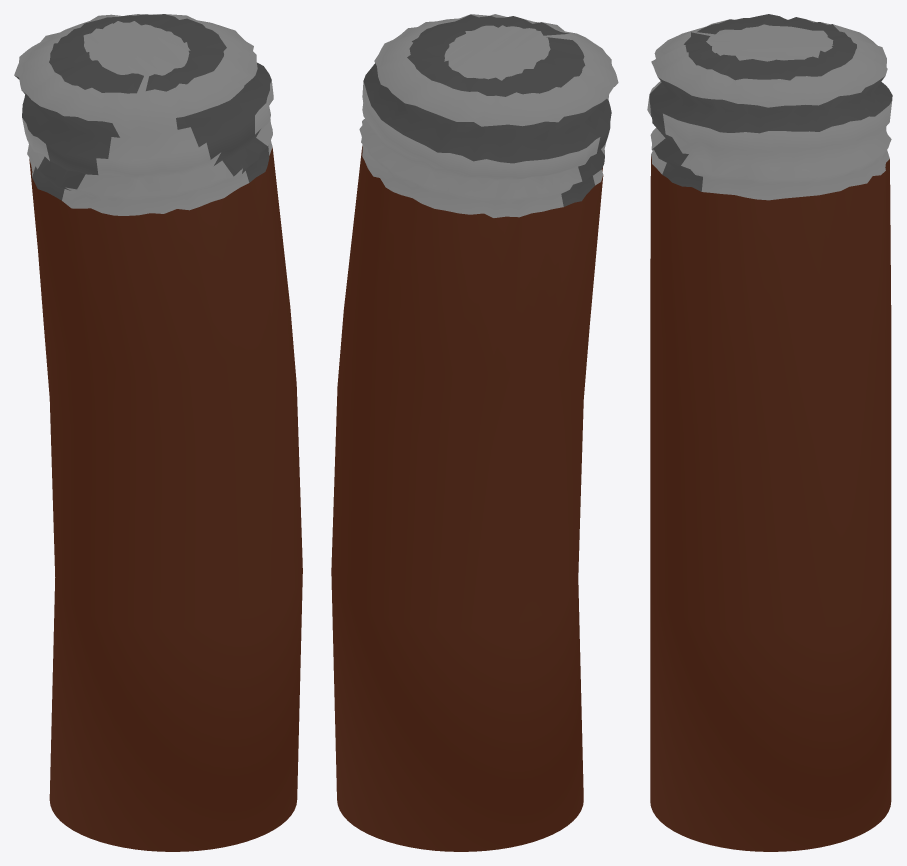
The model's file is Cigar.glb.
3 views of the same model, side by side, from view 1: azimuth 30°, elevation 25°; view 2: azimuth 150°, elevation 25°; view 3: azimuth 270°, elevation 25° (orthographic). The views are drawn at different scales.
Visible parts, largest first — view 1: Cigar; view 2: Cigar; view 3: Cigar.
Part boxes in pixels (x1,y1,x2,y2): Cigar: (14, 14, 302, 851); Cigar: (331, 14, 618, 851); Cigar: (647, 14, 892, 851).
Bounding box in the file's own units: 0.6074 × 1.74 × 0.5203.
Materials: 3 (3 with a texture image).
